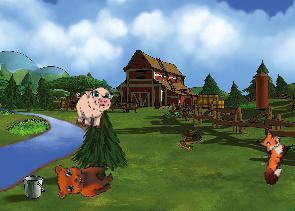bear: (49, 149, 117, 206)
fox: (244, 126, 294, 186)
pig: (71, 84, 115, 131)
